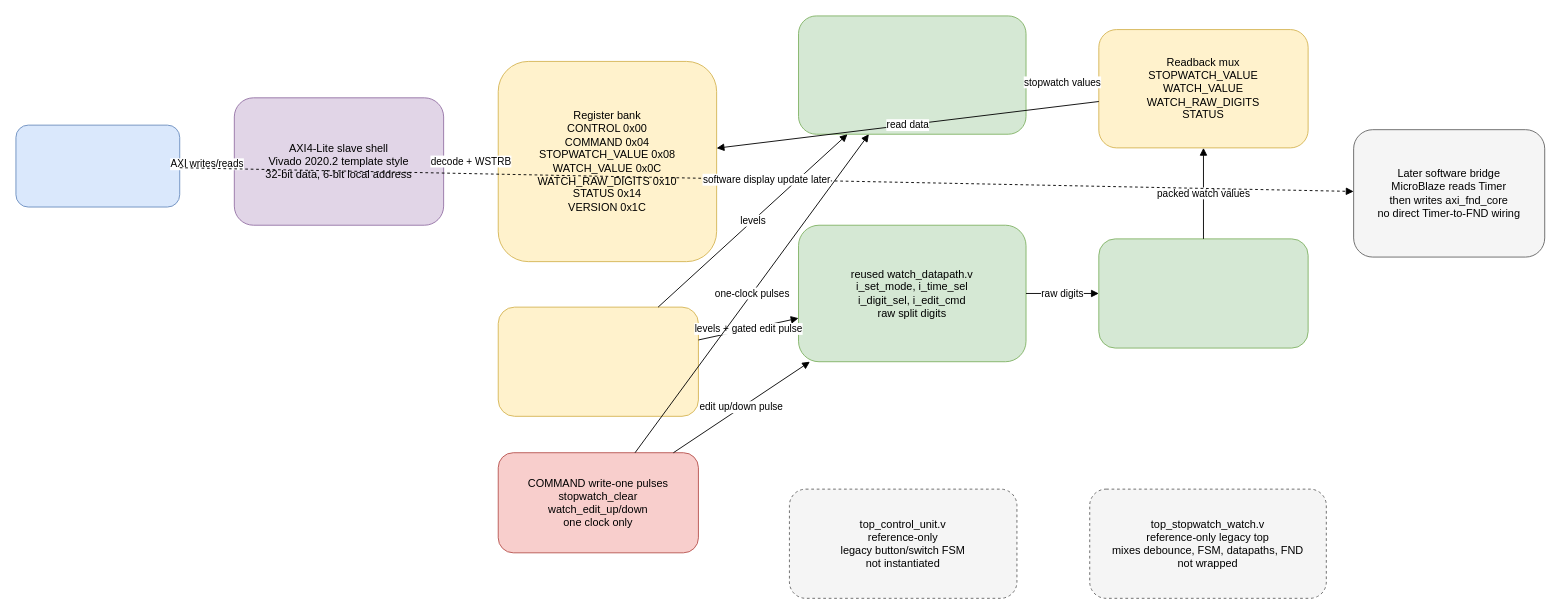
The diagram is 1561 pixels wide and 614 high, and some of its shapes have lost their labels. The shapes that lost their labels are listed below. From the top down, each one's box as (x1, y1, x2, y2) in pixels, then its label:
(798, 15, 1026, 134): reused stopwatch_datapath.v i_runstop, i_clear, i_mode msec/sec/min/hour
(15, 124, 180, 207): MicroBlaze AXI master UART command software
(1098, 238, 1308, 348): reused watch_fnd_adapter.v split digits to packed hour/min/sec/msec
(497, 306, 698, 416): CONTROL levels stopwatch_run/down watch_set_mode watch_time_sel watch_digit_sel
